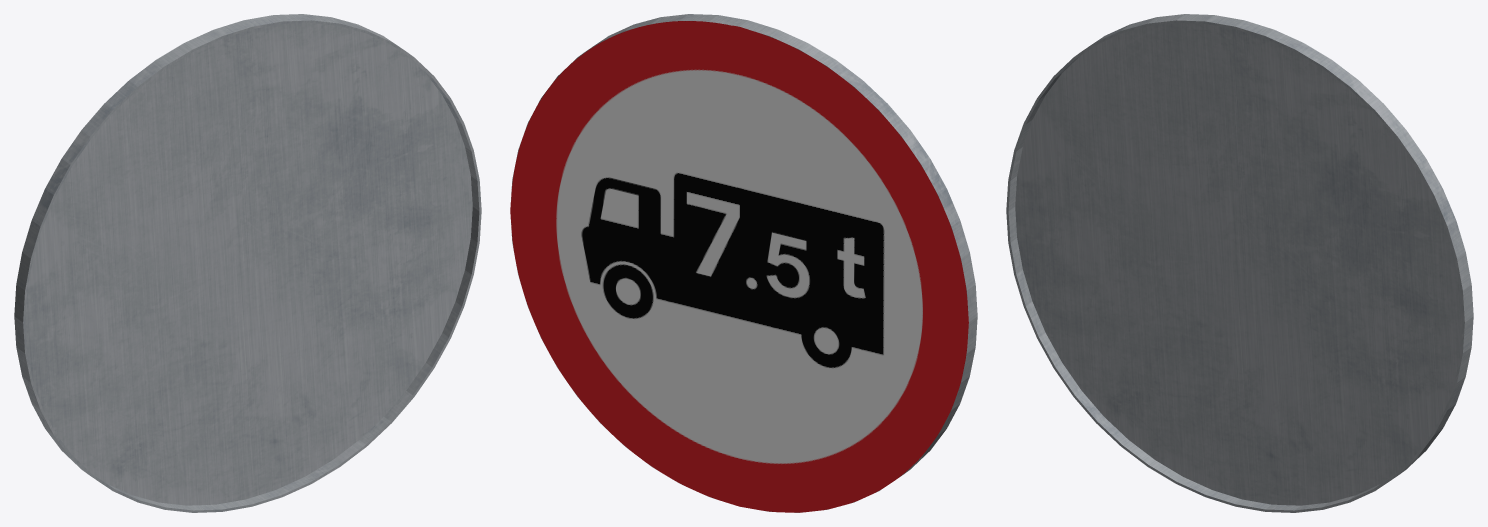
The model's file is Goods_vehicles_exceeding_weight_prohibited.fbx.
3 renders of one model, left to right at view 1: azimuth 30°, elevation 25°; view 2: azimuth 150°, elevation 25°; view 3: azimuth 330°, elevation 25°, orthographic.
Parts seen in each view (by area): view 1: Goods vehicles exceeding weight prohibited; view 2: Goods vehicles exceeding weight prohibited; view 3: Goods vehicles exceeding weight prohibited.
Part boxes in pixels (left/top/right/bottom): Goods vehicles exceeding weight prohibited: left=14, top=14, right=481, bottom=512; Goods vehicles exceeding weight prohibited: left=510, top=14, right=977, bottom=512; Goods vehicles exceeding weight prohibited: left=1006, top=14, right=1473, bottom=512.
Size of the model in its own units: 0.02 by 0.6 by 0.6.
